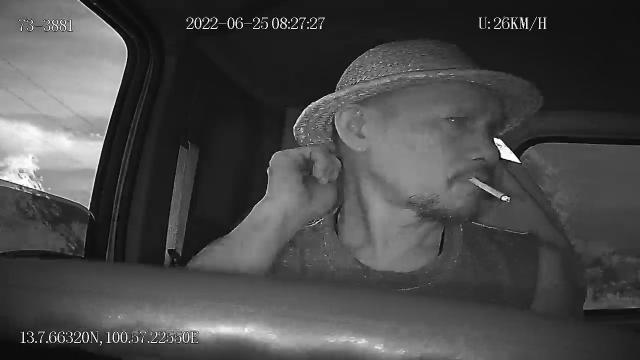Cigarette: (468, 174, 510, 204)
